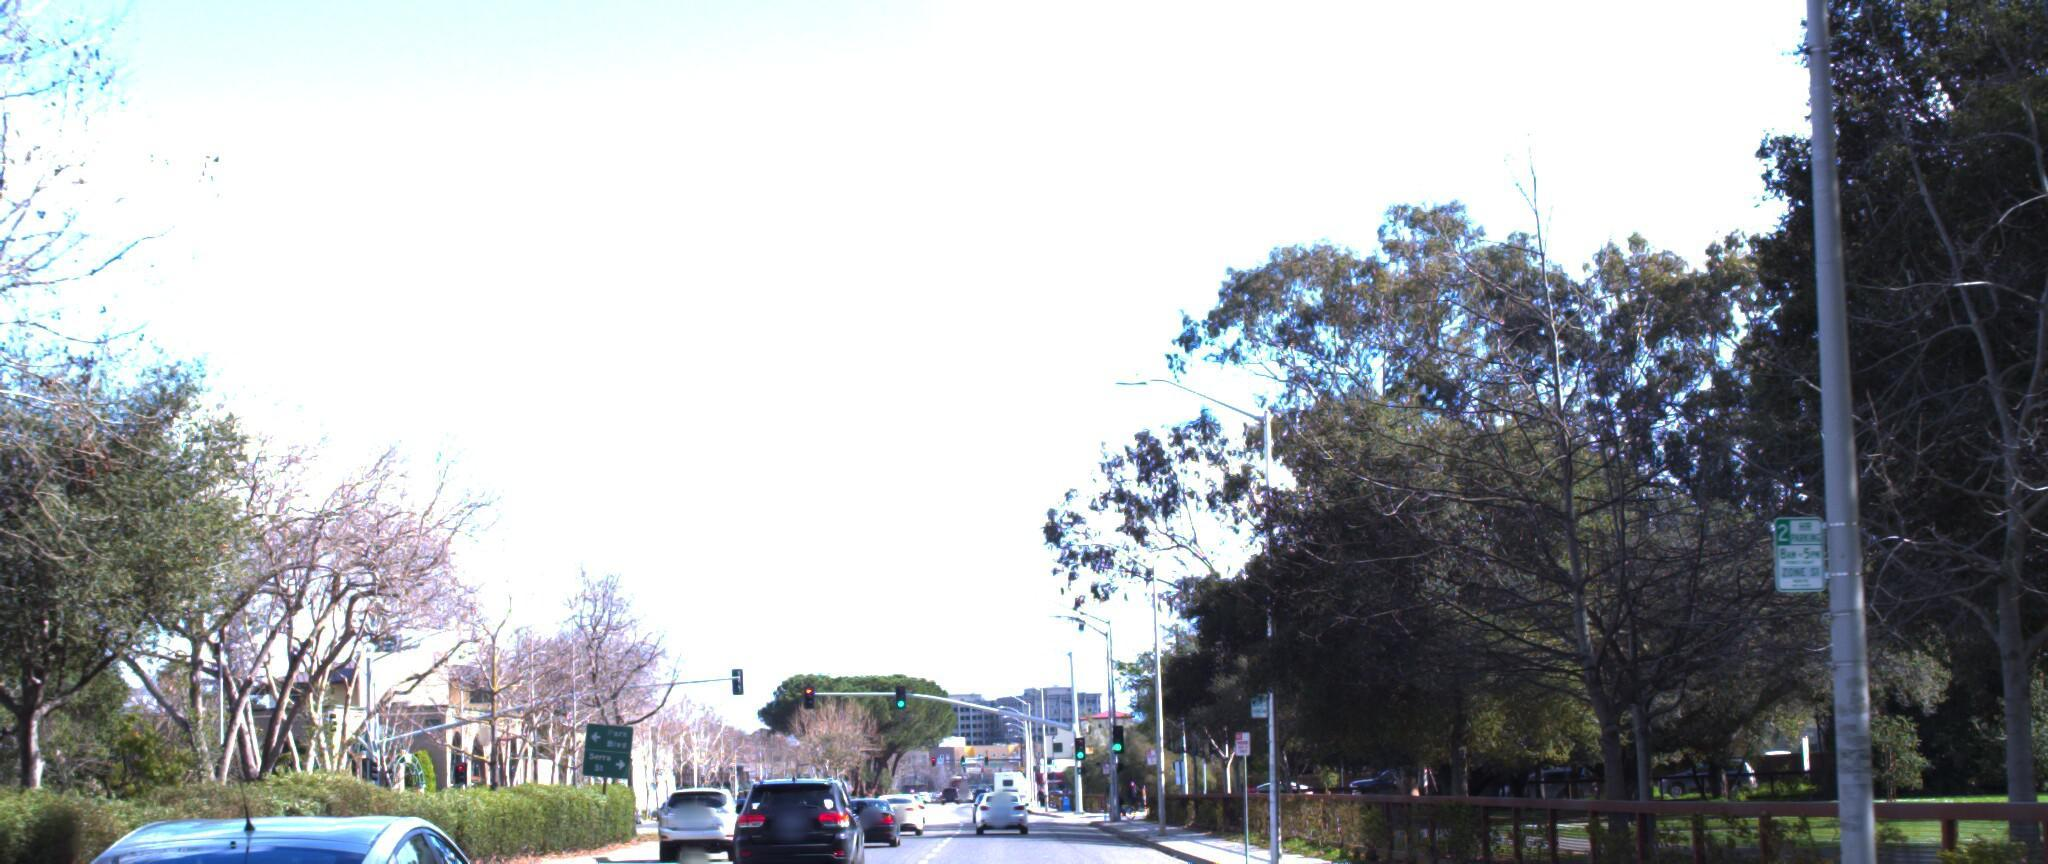car: (0, 782, 571, 864), (720, 770, 865, 864), (656, 780, 750, 863)
